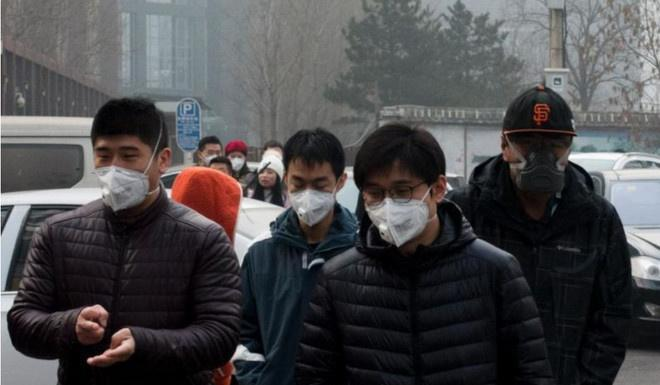NONE: (259, 167, 277, 186)
OK: (90, 138, 161, 209), (361, 172, 431, 242), (287, 164, 348, 225), (511, 130, 571, 190), (202, 149, 222, 167), (229, 153, 246, 172)
